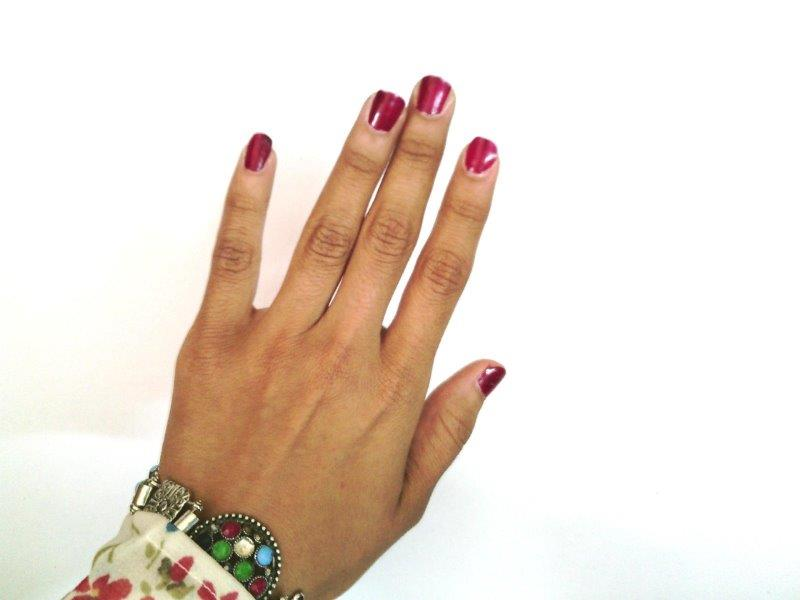hand: (158, 77, 504, 564)
